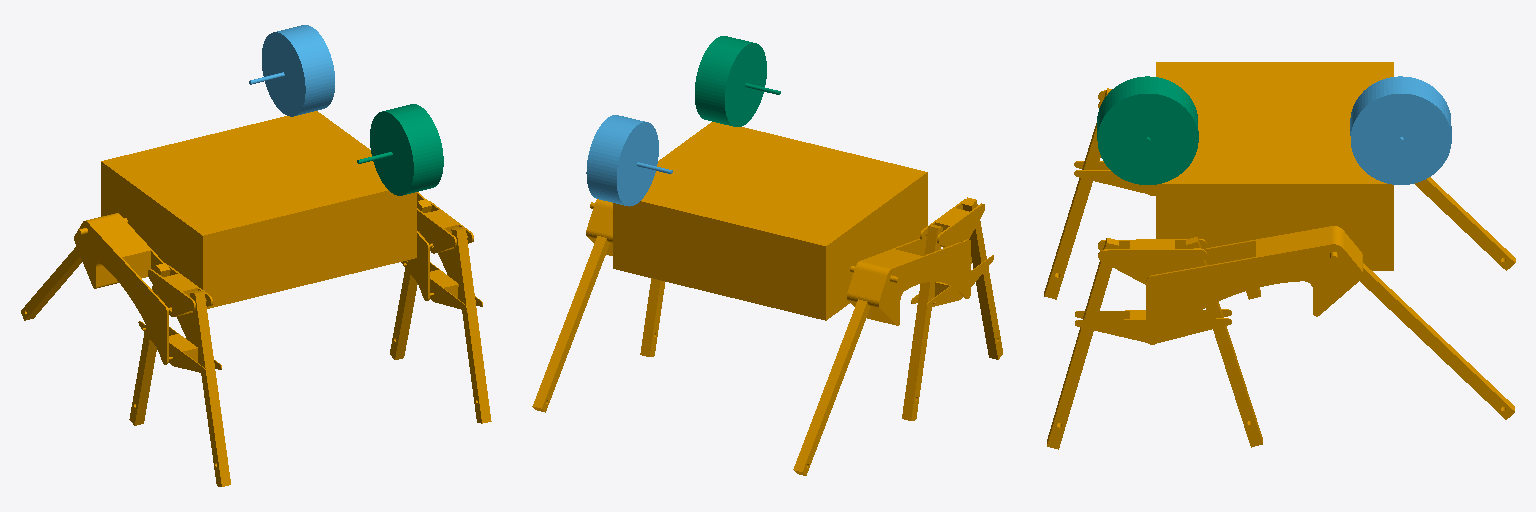
URDF robot description (kratos):
<?xml version="1.0" ?>
<!-- =================================================================================== -->
<!-- |    This document was autogenerated by xacro from /home/d4y0n3/ros2_ws/install/kratos_description/share/kratos_description/urdf/kratos.xacro | -->
<!-- |    EDITING THIS FILE BY HAND IS NOT RECOMMENDED                                 | -->
<!-- =================================================================================== -->
<robot name="kratos">
  <link name="base_link">
    <!-- Visual -->
    <visual>
      <origin rpy="0 0 0" xyz="0 0 0"/>
      <geometry>
        <mesh filename="package://kratos_description/meshes/body.stl" scale="0.001 0.001 0.001"/>
      </geometry>
    </visual>
    <!-- Collision -->
    <collision>
      <origin rpy="0 0 0" xyz="0 0 0"/>
      <geometry>
        <mesh filename="package://kratos_description/meshes/body.stl" scale="0.001 0.001 0.001"/>
      </geometry>
    </collision>
    <!-- Inertial (placeholder – you should tune this) -->
    <inertial>
      <origin xyz="0 0 0"/>
      <mass value="20.0"/>
      <inertia ixx="1.0" ixy="0.0" ixz="0.0" iyy="1.0" iyz="0.0" izz="1.0"/>
    </inertial>
  </link>
  <!-- Wheel link -->
  <link name="left_wheel">
    <visual>
      <origin rpy="0 0 0" xyz="0 0 0"/>
      <geometry>
        <mesh filename="package://kratos_description/meshes/wheel.stl" scale="0.001 0.001 0.001"/>
      </geometry>
    </visual>
    <collision>
      <origin rpy="0 0 0" xyz="0 0 0"/>
      <geometry>
        <mesh filename="package://kratos_description/meshes/wheel.stl" scale="0.001 0.001 0.001"/>
      </geometry>
    </collision>
    <inertial>
      <origin xyz="0 0 0"/>
      <mass value="2.0"/>
      <inertia ixx="0.01" ixy="0" ixz="0" iyy="0.01" iyz="0" izz="0.01"/>
    </inertial>
  </link>
  <!-- Wheel joint -->
  <joint name="left_wheel_joint" type="continuous">
    <parent link="base_link"/>
    <child link="left_wheel"/>
    <!-- Position of wheel relative to base -->
    <origin rpy="3.14159 1.570795 0" xyz="0.3 0.25 0.1"/>
    <!-- ROTATION AXIS -->
    <axis xyz="0 0 1"/>
  </joint>
  <!-- Wheel link -->
  <link name="right_wheel">
    <visual>
      <origin rpy="0 0 0" xyz="0 0 0"/>
      <geometry>
        <mesh filename="package://kratos_description/meshes/wheel.stl" scale="0.001 0.001 0.001"/>
      </geometry>
    </visual>
    <collision>
      <origin rpy="0 0 0" xyz="0 0 0"/>
      <geometry>
        <mesh filename="package://kratos_description/meshes/wheel.stl" scale="0.001 0.001 0.001"/>
      </geometry>
    </collision>
    <inertial>
      <origin xyz="0 0 0"/>
      <mass value="2.0"/>
      <inertia ixx="0.01" ixy="0" ixz="0" iyy="0.01" iyz="0" izz="0.01"/>
    </inertial>
  </link>
  <!-- Wheel joint -->
  <joint name="right_wheel_joint" type="continuous">
    <parent link="base_link"/>
    <child link="right_wheel"/>
    <!-- Position of wheel relative to base -->
    <origin rpy="3.14159 1.570795 0" xyz="0.3 -0.25 0.1"/>
    <!-- ROTATION AXIS -->
    <axis xyz="0 0 1"/>
  </joint>
</robot>

--- Facts derived from the render (not from the file) ---
3 views of the same robot in one strip: view 1: azimuth 30°, elevation 25°; view 2: azimuth 150°, elevation 25°; view 3: azimuth 270°, elevation 25° (orthographic).
Model kratos with 3 links and 2 joints (2 continuous), rooted at base_link, posed every joint at zero.
Links seen in each view (by area): view 1: base_link, right_wheel, left_wheel; view 2: base_link, left_wheel, right_wheel; view 3: base_link, left_wheel, right_wheel.
Link boxes in pixels (x1=…): base_link: x1=21, y1=111, x2=491, y2=486; right_wheel: x1=357, y1=104, x2=443, y2=195; left_wheel: x1=249, y1=25, x2=334, y2=116; base_link: x1=532, y1=122, x2=1002, y2=475; left_wheel: x1=586, y1=115, x2=672, y2=206; right_wheel: x1=695, y1=36, x2=780, y2=126; base_link: x1=1044, y1=62, x2=1515, y2=449; left_wheel: x1=1350, y1=76, x2=1451, y2=184; right_wheel: x1=1097, y1=76, x2=1198, y2=184.
Bounding box of the posed robot: 0.82 × 0.9305 × 0.7434 m (x, y, z).
3 mesh visuals loaded from 2 distinct referenced files (2 binary STL).
